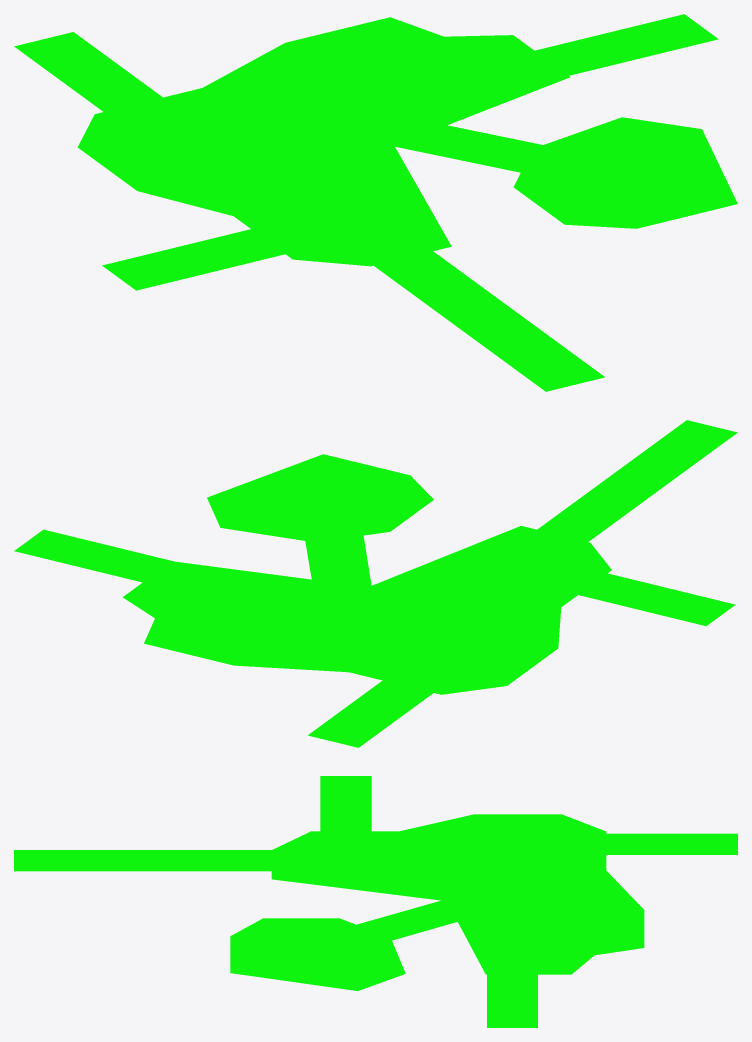
File: s05b_xb2-floor.glb
3 renders of one model, top to bottom at view 1: azimuth 30°, elevation 25°; view 2: azimuth 150°, elevation 25°; view 3: azimuth 270°, elevation 25°, orthographic. The views are drawn at different scales.
Visible parts, largest first — view 1: collision_floor-colonly; view 2: collision_floor-colonly; view 3: collision_floor-colonly.
Boxes of the visible parts, x1,y1,x2,y2 form: collision_floor-colonly: [14, 14, 737, 391]; collision_floor-colonly: [14, 420, 737, 747]; collision_floor-colonly: [14, 776, 737, 1027].
Size of the model in its own units: 70 by 0.1016 by 85.
